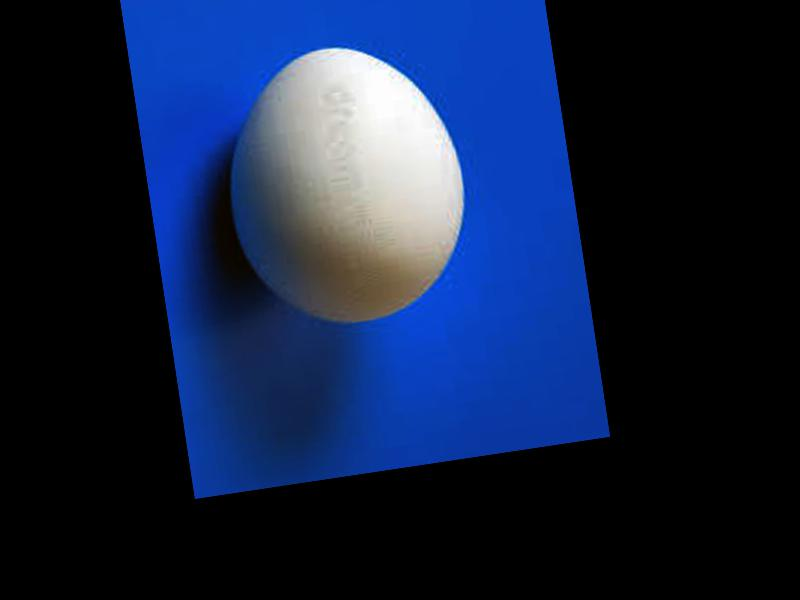Eggs: (208, 28, 481, 340)
